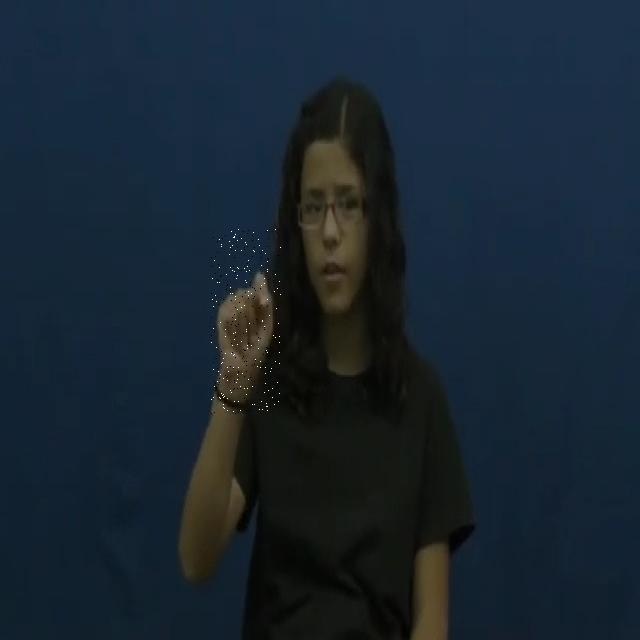yoghurt: (212, 228, 282, 414)
